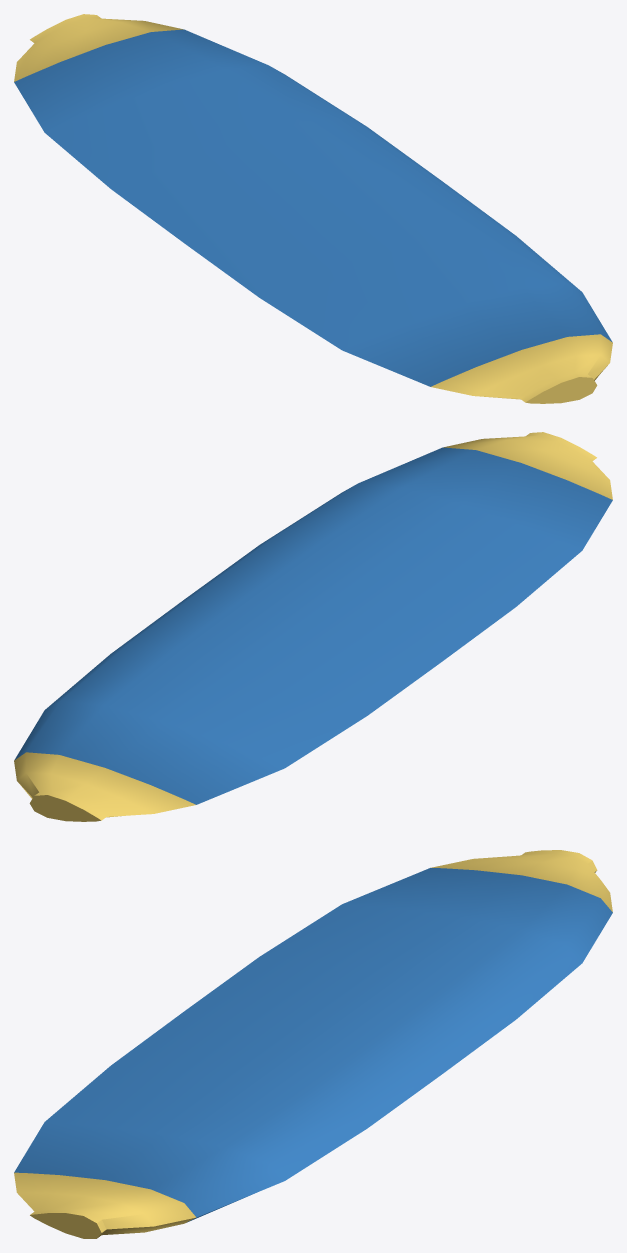
Rendered from stabilizer.glb.
3 renders of one model, top to bottom at view 1: azimuth 30°, elevation 25°; view 2: azimuth 150°, elevation 25°; view 3: azimuth 330°, elevation 25°, orthographic.
Visible parts, largest first — view 1: body, trim; view 2: body, trim; view 3: body, trim.
Part boxes in pixels (<box>): body: <box>14,29,612,386</box>; trim: <box>14,14,612,403</box>; body: <box>14,447,612,804</box>; trim: <box>14,432,612,821</box>; body: <box>14,868,612,1222</box>; trim: <box>14,850,612,1238</box>.
Bounding box in the file's own units: 0.3 × 0.0399 × 1.
